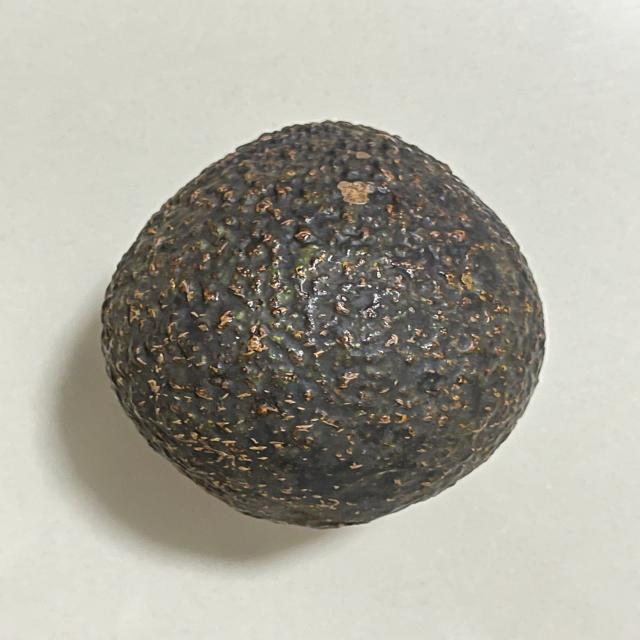Level2: (93, 111, 556, 536)
